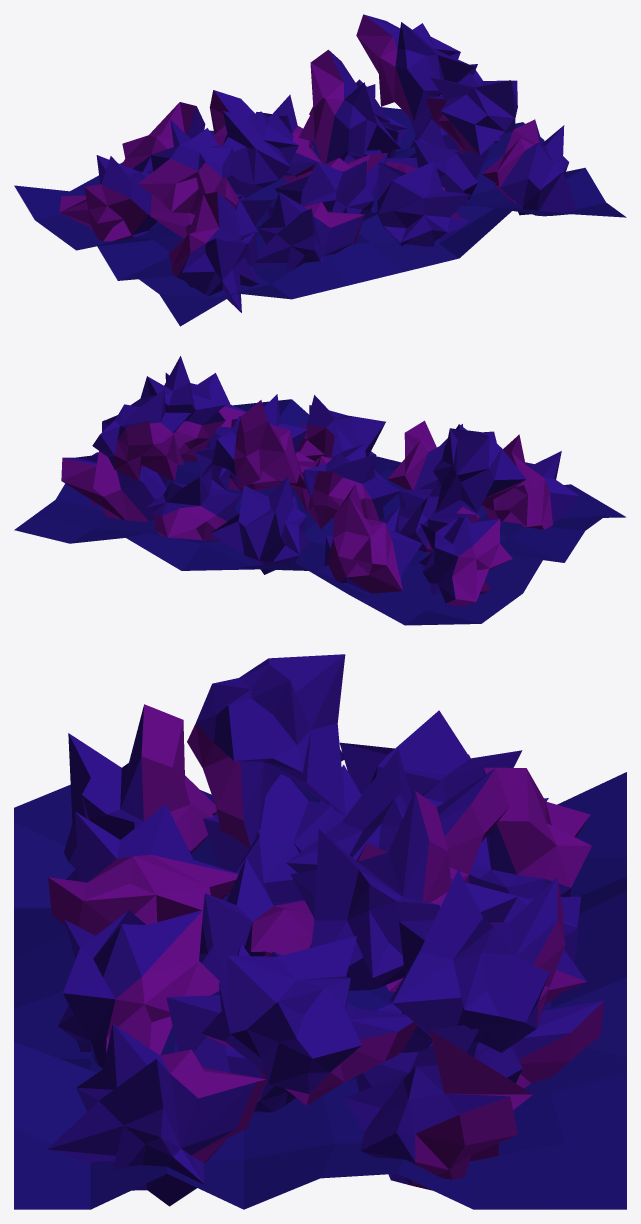
The model's file is ChestV2_Loot.fbx.
3 renders of one model, top to bottom at view 1: azimuth 30°, elevation 25°; view 2: azimuth 150°, elevation 25°; view 3: azimuth 270°, elevation 25°, orthographic. The views are drawn at different scales.
Visible parts, largest first — view 1: ChestV2_Loot; view 2: ChestV2_Loot; view 3: ChestV2_Loot.
Part boxes in pixels (box(x1,y1,x2,y2)): ChestV2_Loot: box(14, 14, 626, 326); ChestV2_Loot: box(14, 356, 626, 625); ChestV2_Loot: box(14, 654, 626, 1209).
Size of the model in its own units: 70.7 by 22.87 by 45.56.
